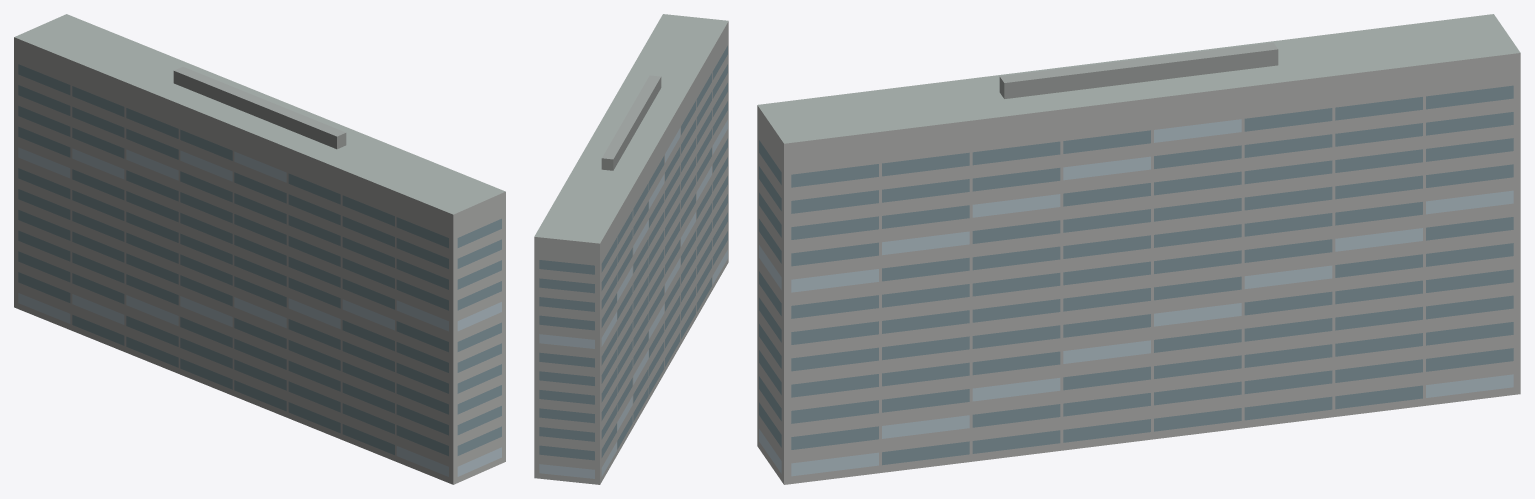
File: apt-a13974401.glb
3 renders of one model, left to right at view 1: azimuth 30°, elevation 25°; view 2: azimuth 150°, elevation 25°; view 3: azimuth 270°, elevation 25°, orthographic. The views are drawn at different scales.
Visible parts, largest first — view 1: apt-a13974401; view 2: apt-a13974401; view 3: apt-a13974401.
Boxes of the visible parts, x1,y1,x2,y2 form: apt-a13974401: [14, 14, 505, 484]; apt-a13974401: [534, 14, 728, 484]; apt-a13974401: [757, 14, 1520, 484].
Bounding box in the file's own units: 34.27 × 44 × 85.2.
